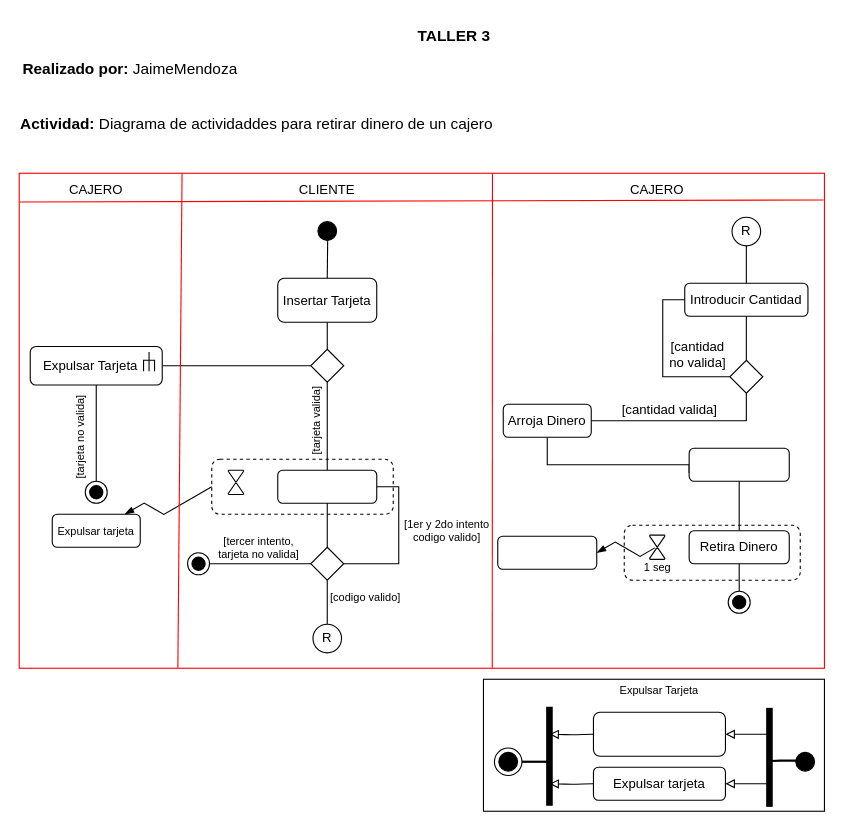
The diagram is 845 pixels wide and 831 high, and some of its shapes have lost their labels. The centre of each missing label's shape, as x and y in pixels:
1 min: point 235,481
Ingresar Codigo: point 327,486
Muestra mensaje "Tarjeta no valida ": point 658,733
Retener Dinero: point 547,552
Retirar tarjeta: point 738,464
